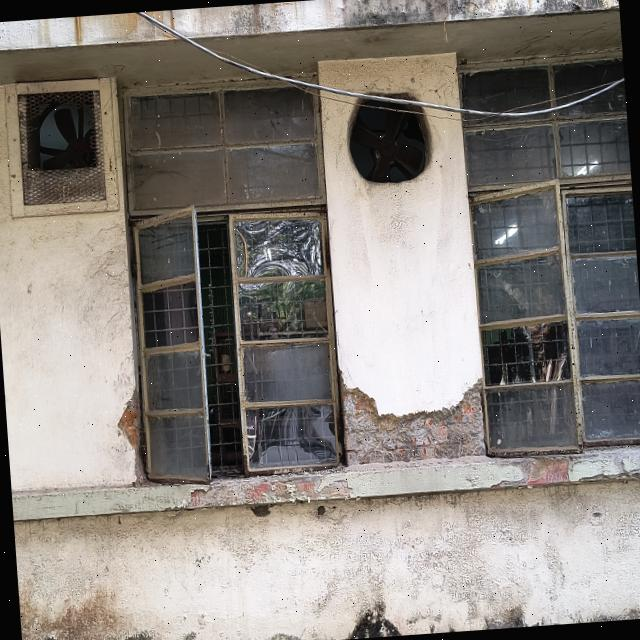Broken window pane: (474, 195, 640, 454)
Scaling: (341, 379, 485, 464)
